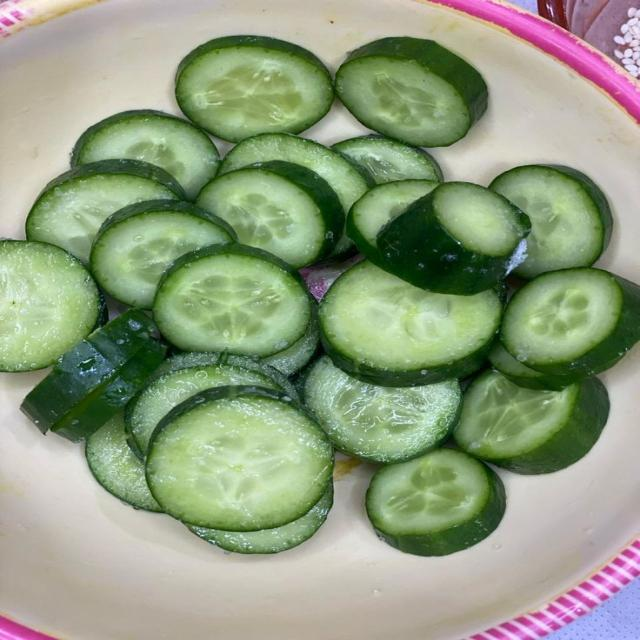cucumber sliced: (147, 386, 333, 531), (320, 261, 502, 386), (21, 310, 165, 440), (125, 353, 296, 458), (154, 244, 313, 356), (378, 183, 530, 294), (304, 356, 461, 463), (176, 36, 333, 142), (335, 37, 487, 146), (26, 160, 186, 262), (454, 371, 609, 473), (90, 201, 236, 309), (197, 161, 344, 268), (500, 267, 639, 375), (367, 449, 506, 555), (490, 166, 613, 279), (0, 240, 103, 371), (72, 110, 219, 198), (219, 134, 368, 213), (219, 134, 367, 211), (188, 482, 333, 553), (347, 180, 439, 268), (86, 413, 161, 512), (332, 135, 442, 184), (488, 340, 589, 390), (261, 319, 319, 376)
